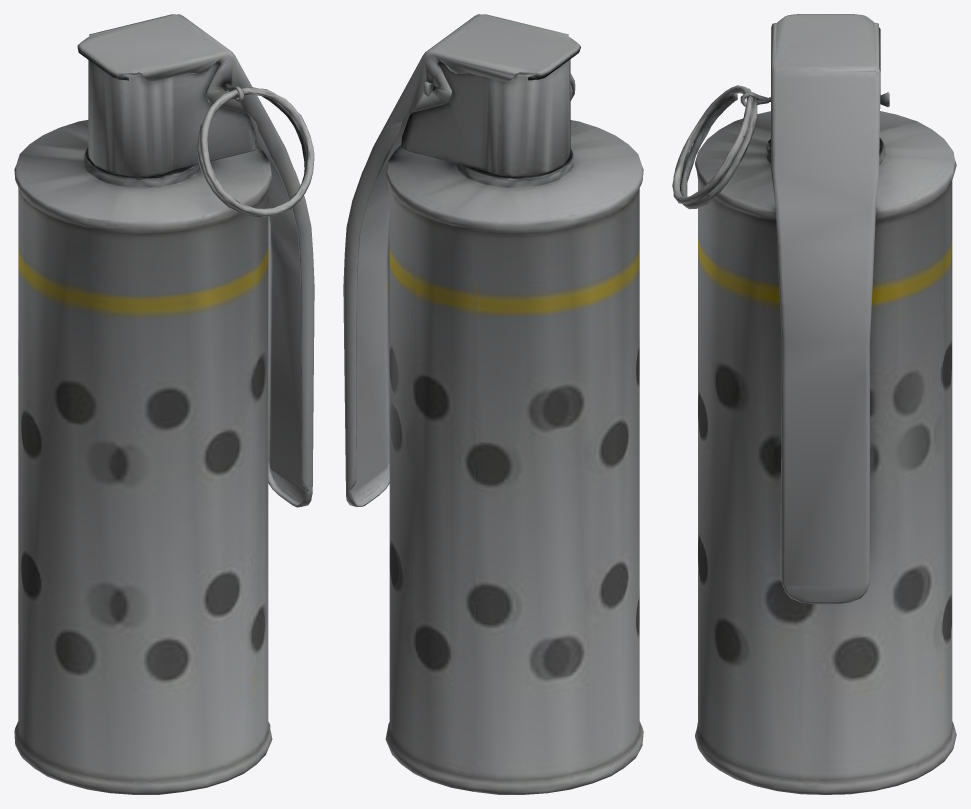
File: flash-world.glb
The picture shows the model from 3 angles, left to right: view 1: azimuth 30°, elevation 25°; view 2: azimuth 150°, elevation 25°; view 3: azimuth 270°, elevation 25°; orthographic projection.
Parts seen in each view (by area): view 1: UTILITY_FLASH_MINT; view 2: UTILITY_FLASH_MINT; view 3: UTILITY_FLASH_MINT.
Part boxes in pixels (bbox=[...]): UTILITY_FLASH_MINT: bbox=[14, 14, 314, 794]; UTILITY_FLASH_MINT: bbox=[343, 14, 643, 794]; UTILITY_FLASH_MINT: bbox=[672, 14, 956, 794].
Bounding box in the file's own units: 0.0511 × 0.13 × 0.0476.
1 material, 1 textured.
